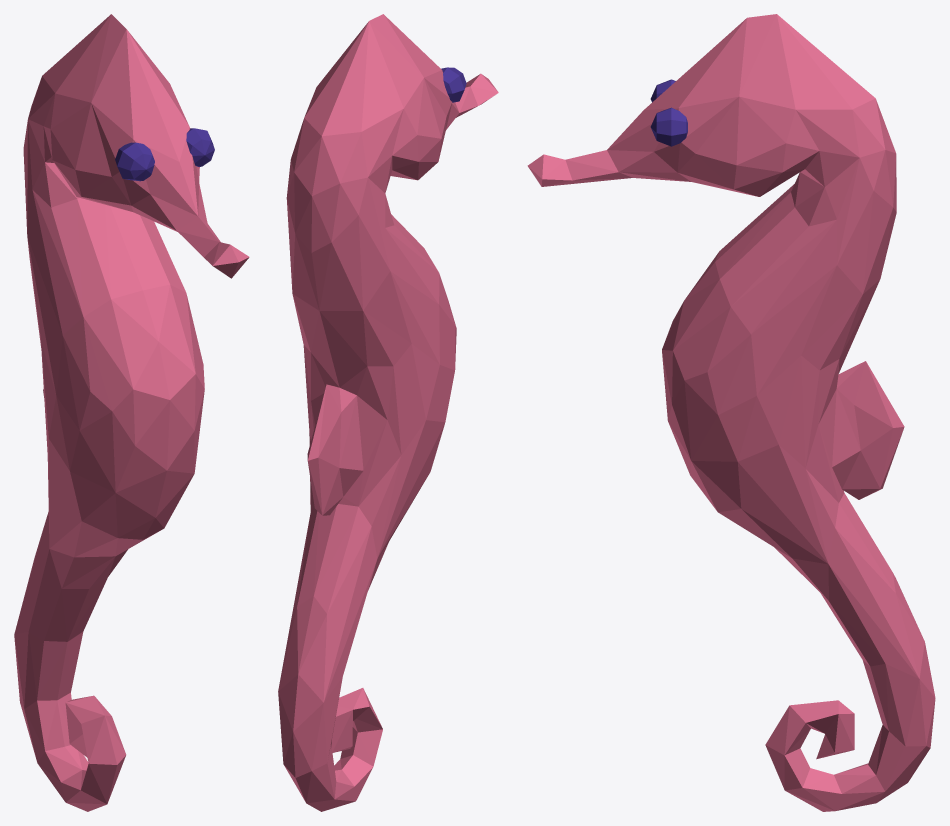
Rendered from Seahorse_01.fbx.
3 renders of one model, left to right at view 1: azimuth 30°, elevation 25°; view 2: azimuth 150°, elevation 25°; view 3: azimuth 270°, elevation 25°, orthographic. The views are drawn at different scales.
Visible parts, largest first — view 1: Seahorse_01; view 2: Seahorse_01; view 3: Seahorse_01.
Boxes of the visible parts, x1,y1,x2,y2 form: Seahorse_01: [14, 14, 249, 811]; Seahorse_01: [278, 14, 498, 811]; Seahorse_01: [527, 14, 935, 811].
Size of the model in its own units: 48.42 by 289 by 134.
